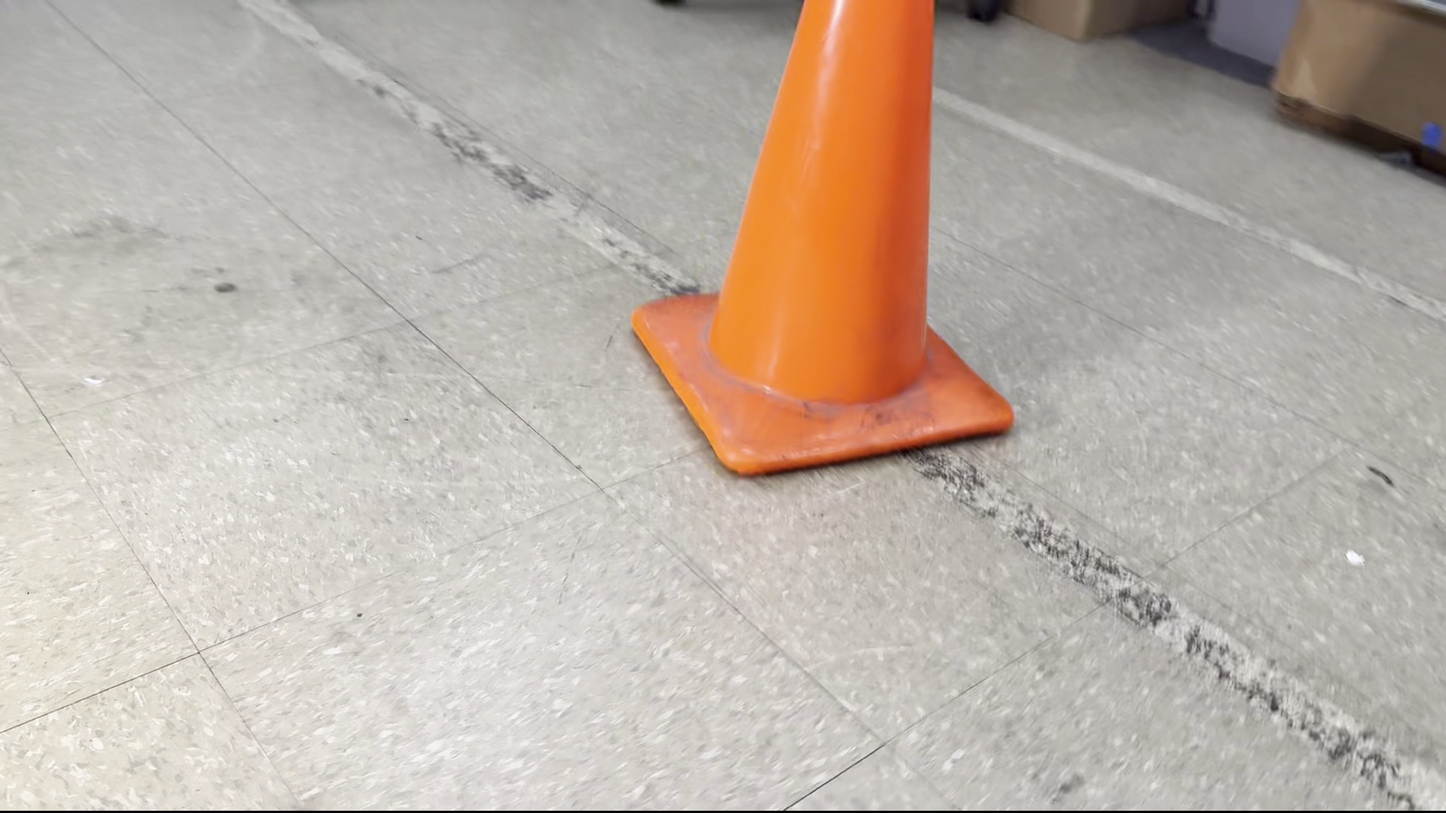traffic_cone: (630, 0, 1015, 477)
